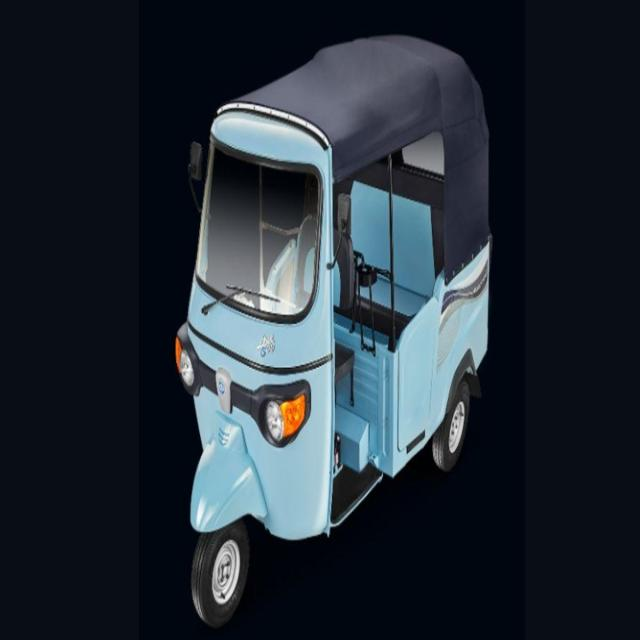autorickshaw: (173, 35, 493, 634)
